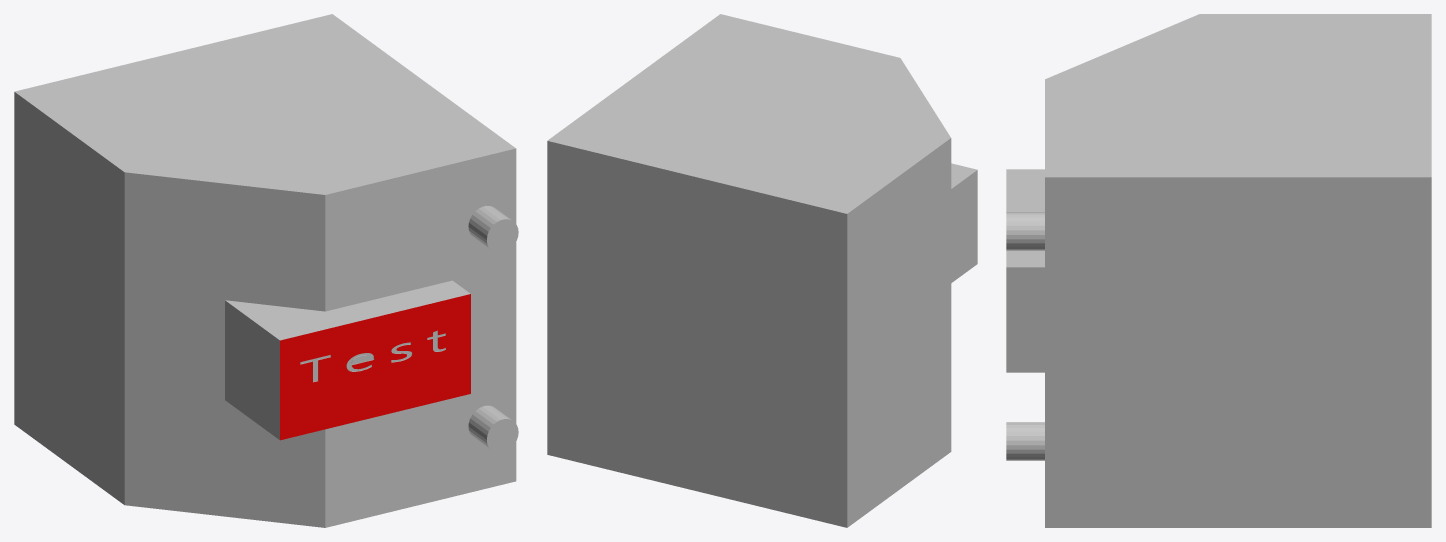
Rendered from TESTE_M1_SF_stp_67.obj.
3 renders of one model, left to right at view 1: azimuth 30°, elevation 25°; view 2: azimuth 150°, elevation 25°; view 3: azimuth 270°, elevation 25°, orthographic. The views are drawn at different scales.
Parts seen in each view (by area): view 1: Object1; view 2: Object1; view 3: Object1.
Boxes of the visible parts, left/top/right/bottom form: Object1: left=14, top=14, right=518, bottom=527; Object1: left=547, top=14, right=977, bottom=527; Object1: left=1006, top=14, right=1431, bottom=527.
Bounding box in the file's own units: 50 × 50 × 55.
